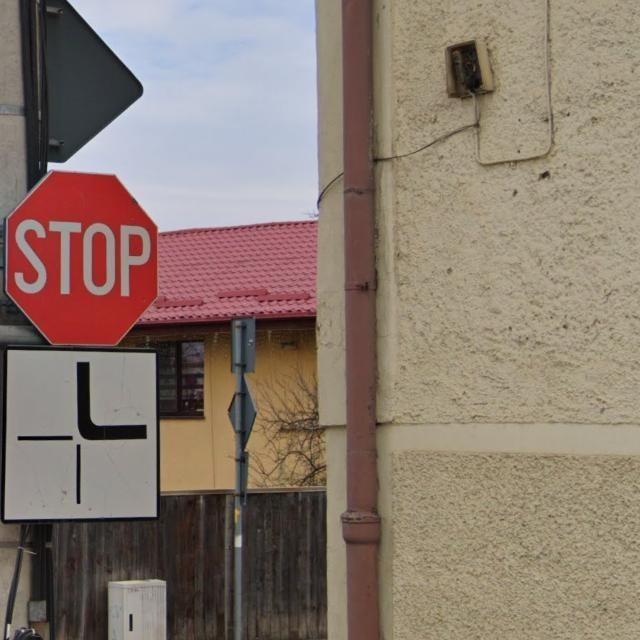prio_stop: (6, 168, 158, 346)
